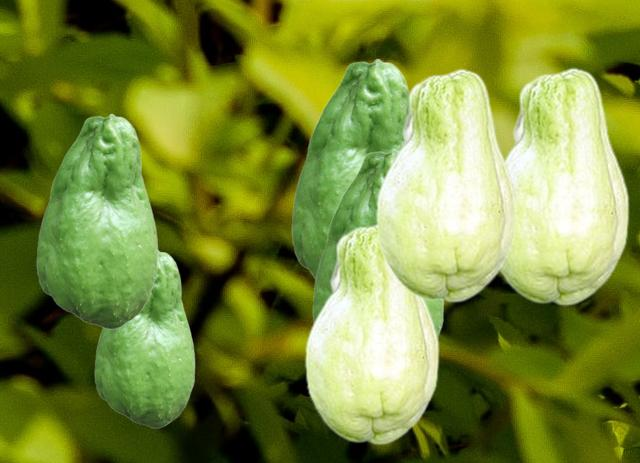sayote: (375, 68, 515, 302), (498, 67, 628, 305), (304, 222, 438, 444), (291, 58, 410, 278), (36, 113, 157, 328), (312, 148, 443, 336), (94, 249, 194, 427)
